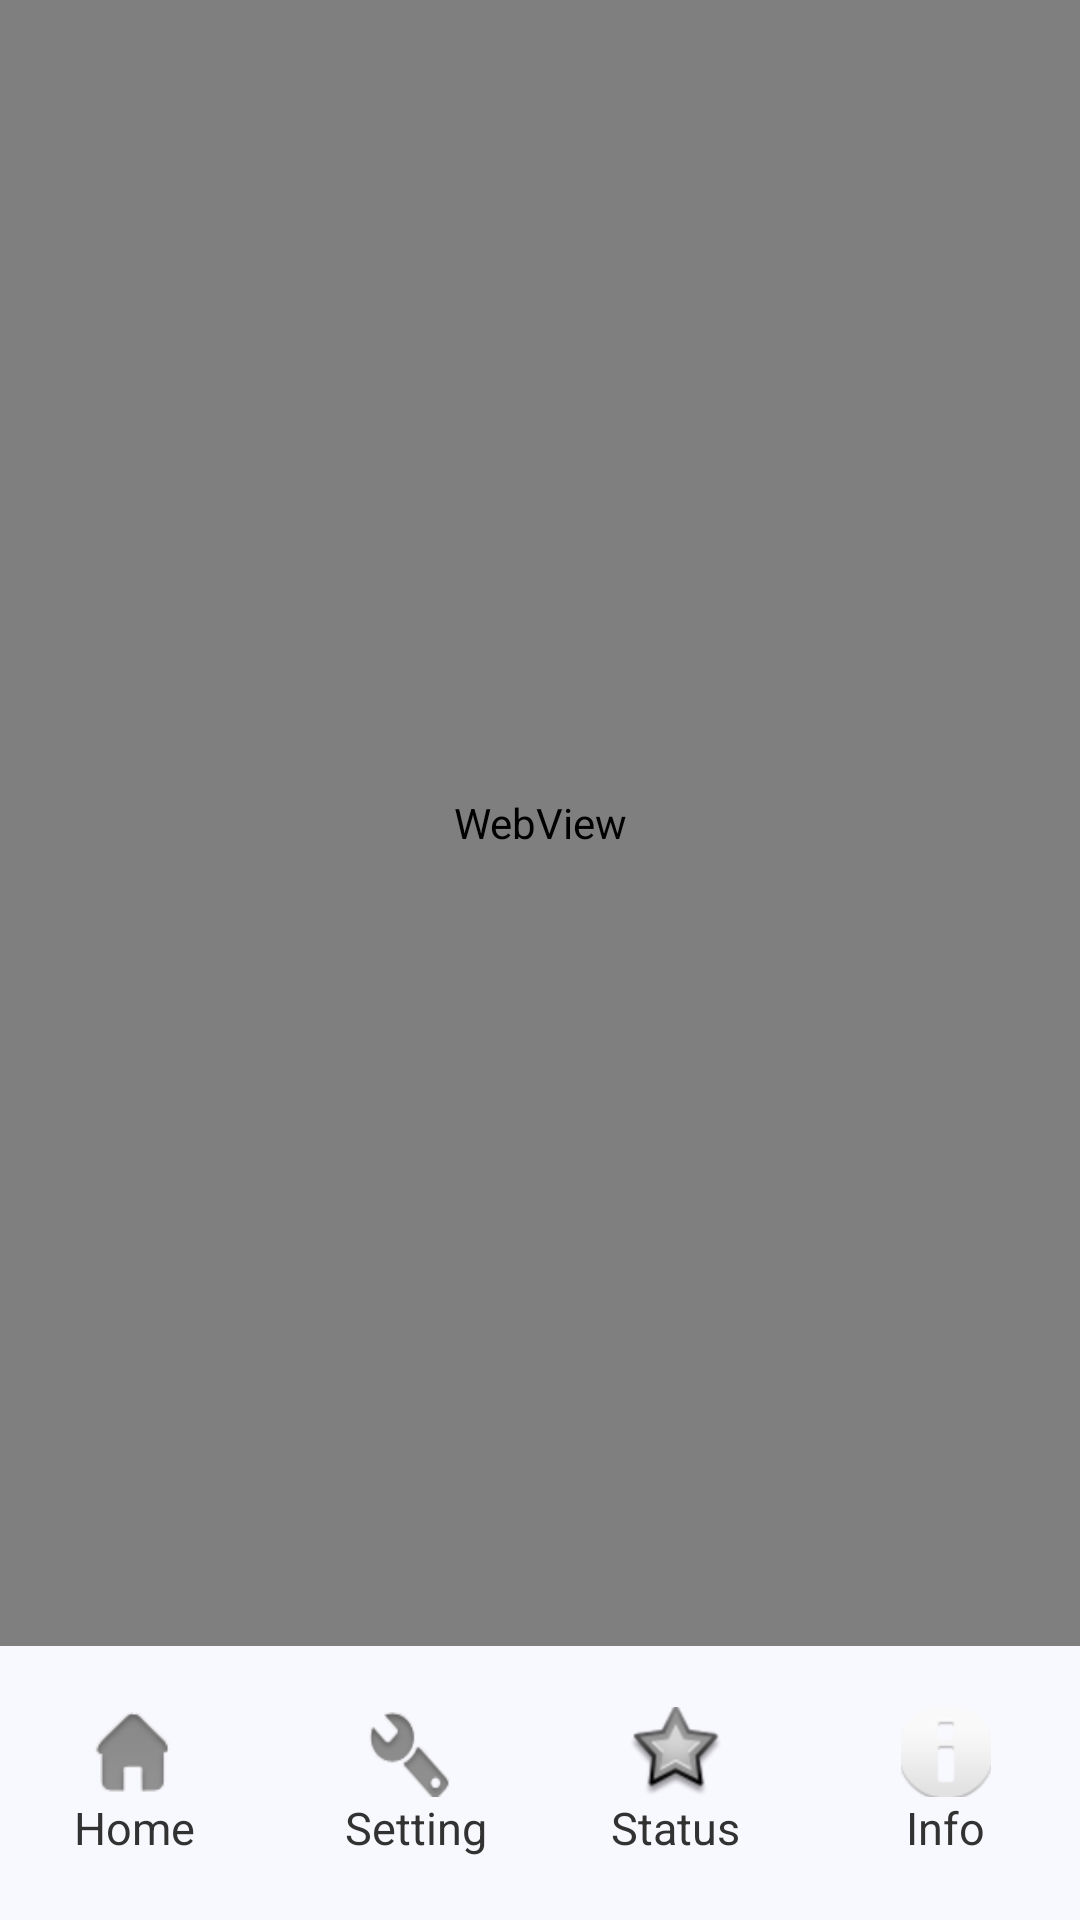

Where to tap for icons on this 1080x1920 app screen, as (x,y):
star off: (676,1749)
